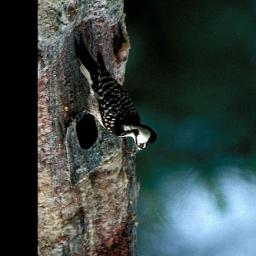Woodpecker: (75, 32, 158, 159)
